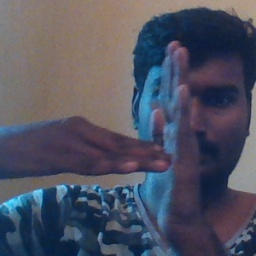Z: (91, 41, 208, 230)
